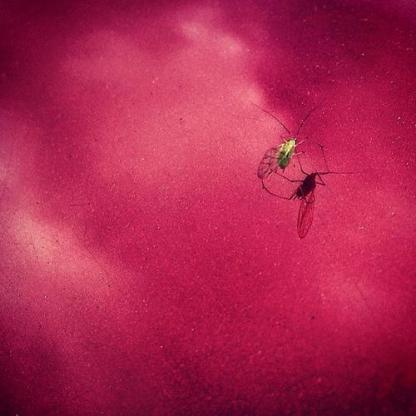aphid: (262, 98, 329, 224)
